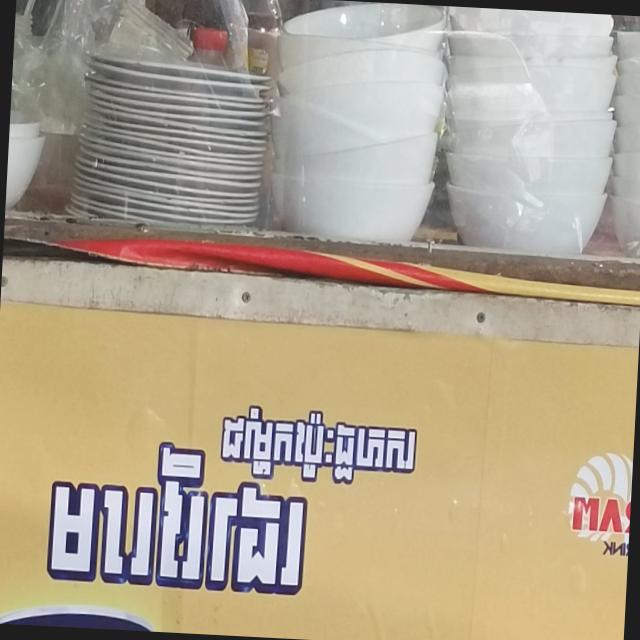Yolov11_80vkh: (38, 432, 320, 606), (210, 396, 426, 491)
